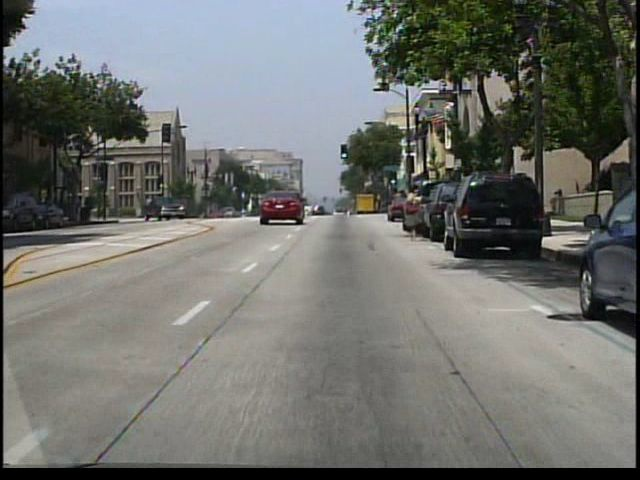person: (404, 182, 432, 242)
